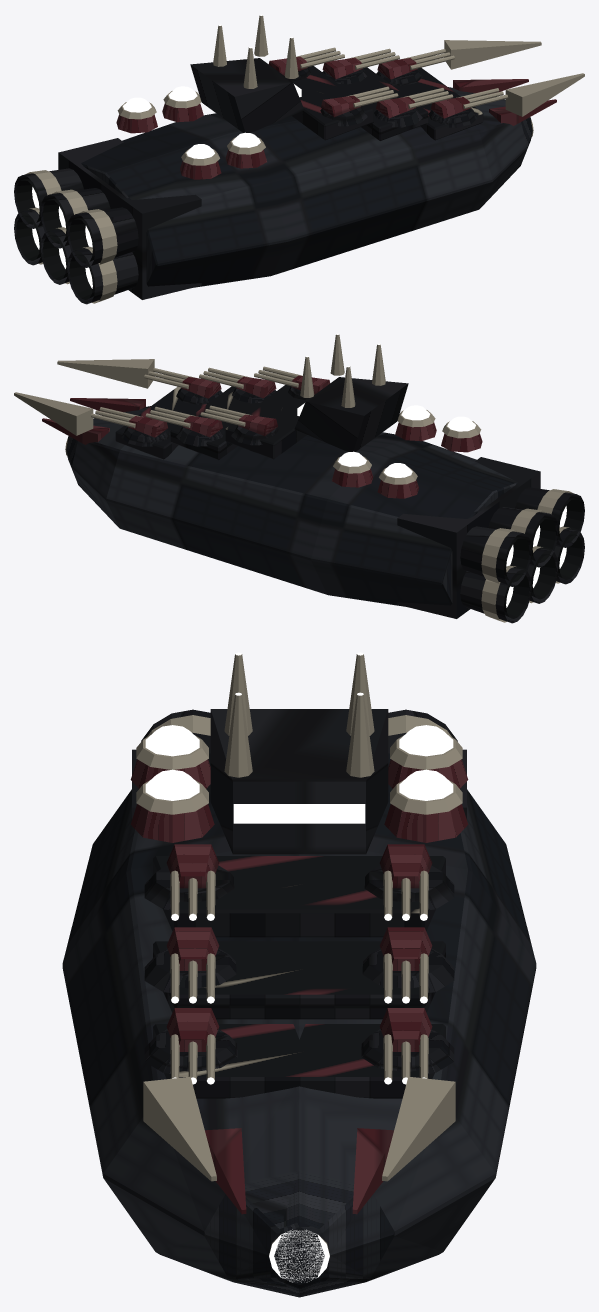
File: dreadnought.glb
3 views of the same model, one above another, from view 1: azimuth 30°, elevation 25°; view 2: azimuth 150°, elevation 25°; view 3: azimuth 270°, elevation 25° (orthographic). The views are drawn at different scales.
Parts seen in each view (by area): view 1: hull_body, engine_block, weapon_turrets, sensor_tower, shield_domes; view 2: hull_body, engine_block, weapon_turrets, sensor_tower, shield_domes; view 3: hull_body, weapon_turrets, sensor_tower, shield_domes, engine_block.
Boxes of the visible parts, x1,y1,x2,y2 form: hull_body: [81, 40, 584, 287]; engine_block: [14, 138, 201, 304]; weapon_turrets: [268, 47, 533, 137]; sensor_tower: [190, 14, 304, 132]; shield_domes: [116, 86, 266, 179]; hull_body: [14, 359, 517, 606]; engine_block: [397, 457, 584, 623]; weapon_turrets: [65, 366, 330, 456]; sensor_tower: [294, 333, 408, 451]; shield_domes: [332, 405, 482, 498]; hull_body: [62, 753, 536, 1297]; weapon_turrets: [144, 844, 454, 1282]; sensor_tower: [210, 652, 388, 854]; shield_domes: [130, 725, 468, 842]; engine_block: [132, 709, 466, 819].
Size of the model in its own units: 80 by 33.53 by 32.28.
1 material, 1 textured.
